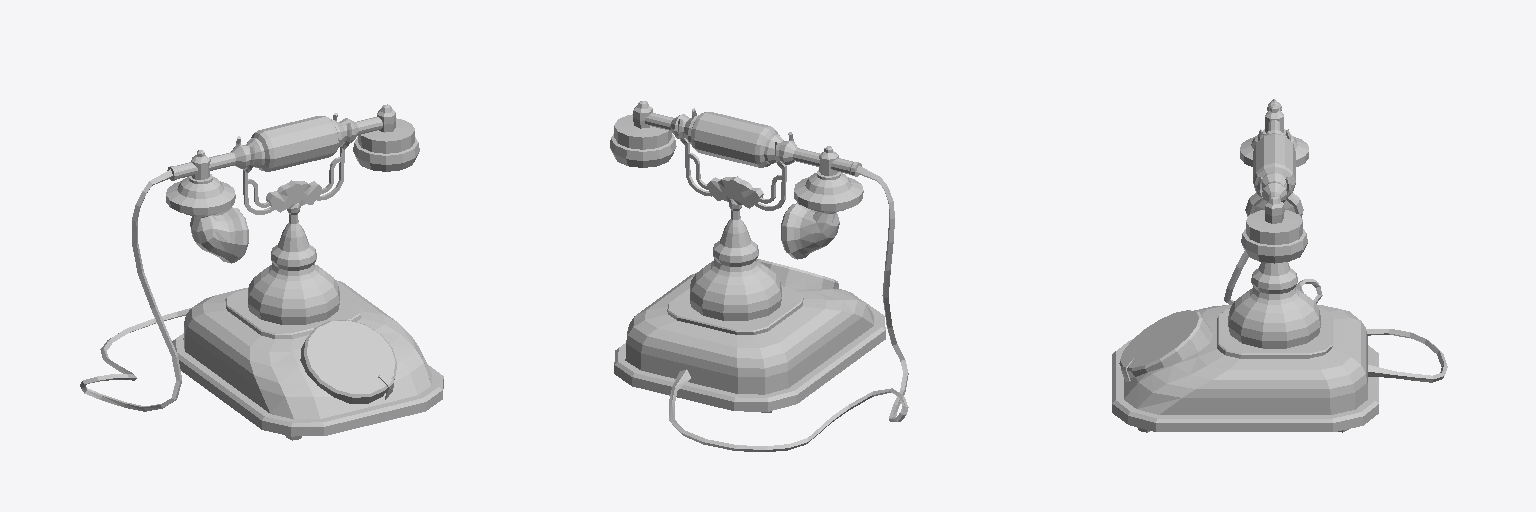
Rendered from Telephone.obj.
3 views of the same model, side by side, from view 1: azimuth 30°, elevation 25°; view 2: azimuth 150°, elevation 25°; view 3: azimuth 270°, elevation 25° (orthographic).
Visible parts, largest first — view 1: Telephone_GRP Base_GEO, Telephone_GRP Handset_GEO, Cord_GEO Telephone_GRP; view 2: Telephone_GRP Base_GEO, Telephone_GRP Handset_GEO, Cord_GEO Telephone_GRP; view 3: Telephone_GRP Base_GEO, Telephone_GRP Handset_GEO, Cord_GEO Telephone_GRP.
Boxes of the visible parts, <box> form: Telephone_GRP Base_GEO: <box>172,147,443,440</box>; Telephone_GRP Handset_GEO: <box>166,104,419,263</box>; Cord_GEO Telephone_GRP: <box>80,169,190,411</box>; Telephone_GRP Base_GEO: <box>614,143,885,412</box>; Telephone_GRP Handset_GEO: <box>610,101,863,259</box>; Cord_GEO Telephone_GRP: <box>669,166,908,451</box>; Telephone_GRP Base_GEO: <box>1112,262,1378,432</box>; Telephone_GRP Handset_GEO: <box>1240,101,1308,263</box>; Cord_GEO Telephone_GRP: <box>1224,99,1447,382</box>.
Bounding box in the file's own units: 0.4227 × 0.3224 × 0.392.